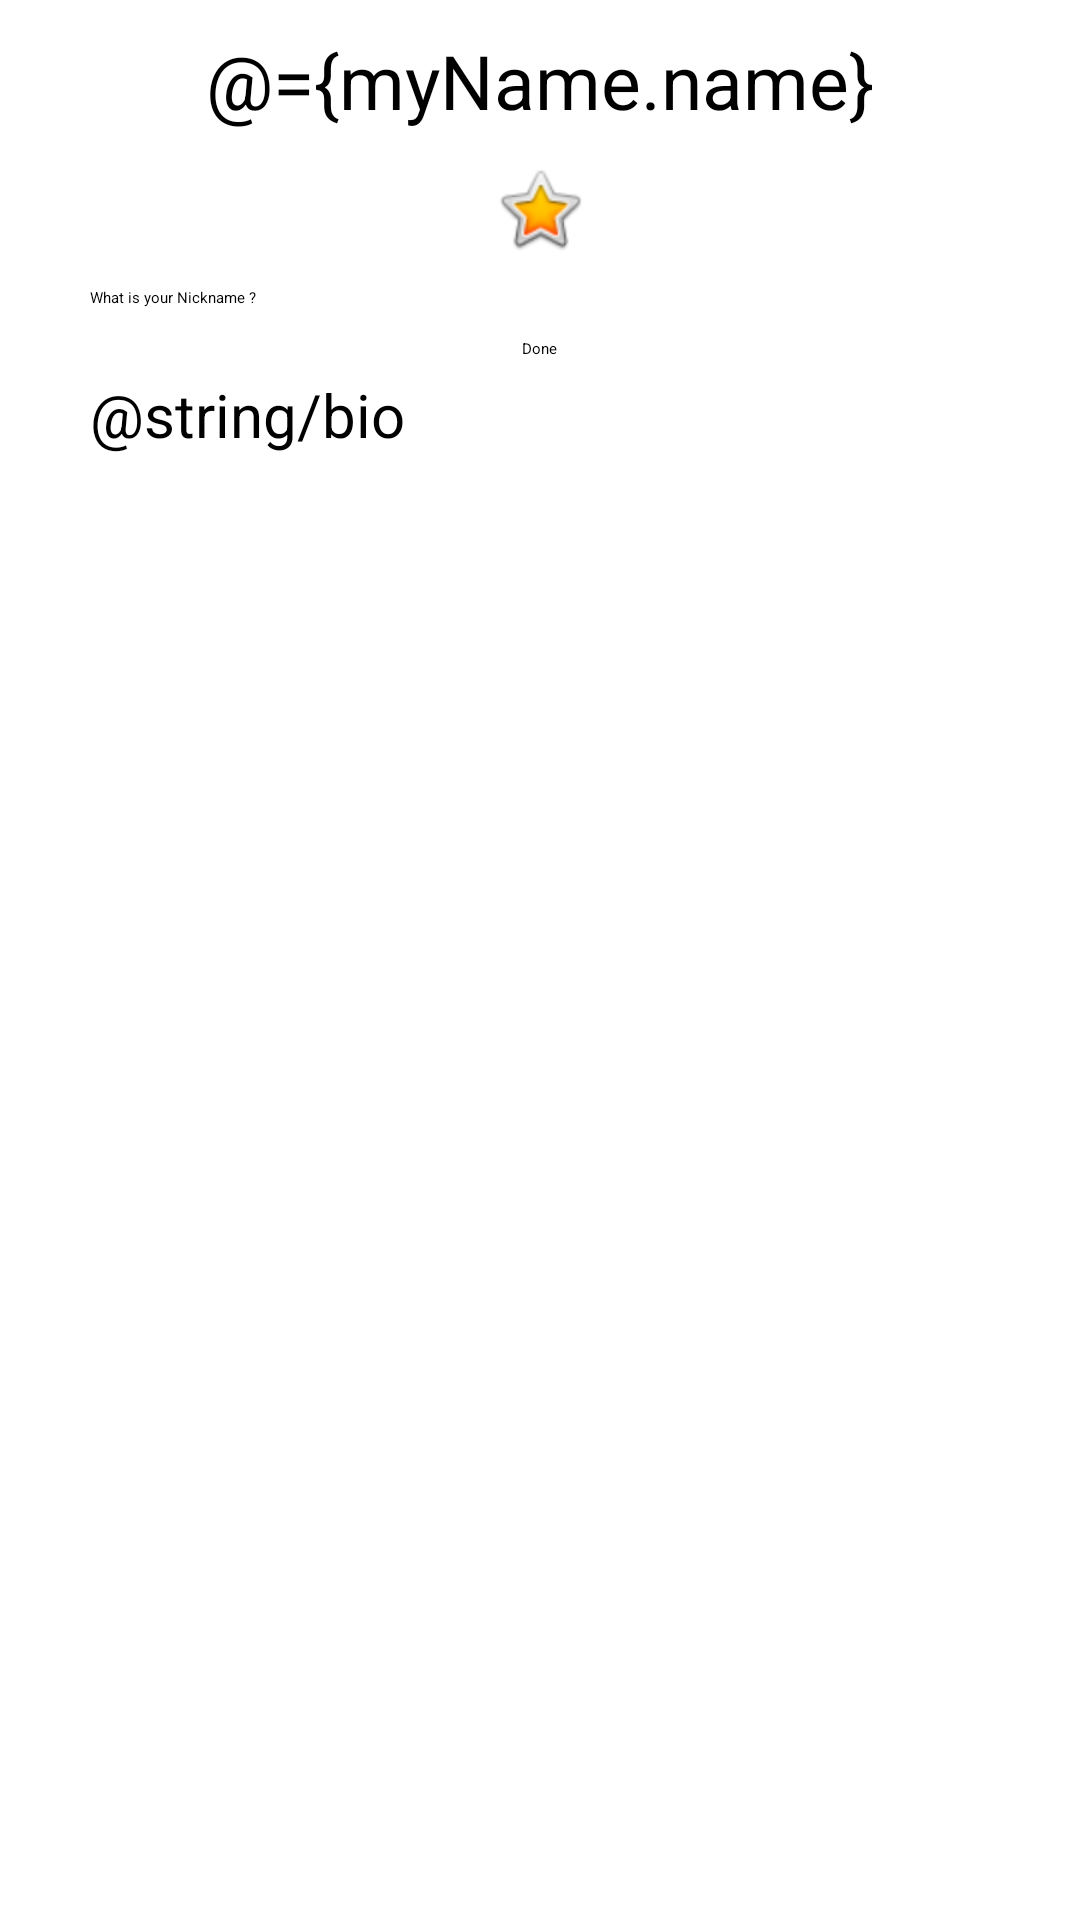

Named icons in this screenshot (1080×1920) and their centers, (x=x, y=y):
star on: (x=541, y=210)
